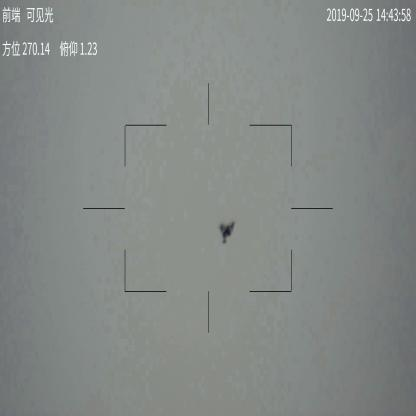uav: (219, 220, 240, 245)
